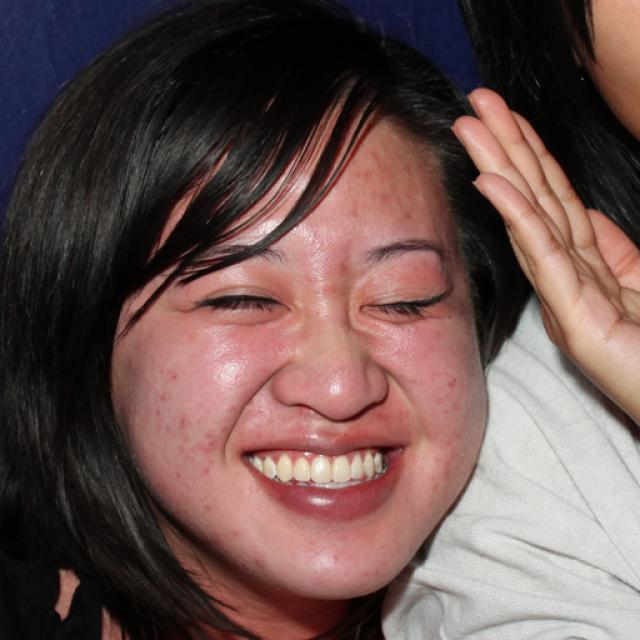Acne: (175, 412, 193, 432), (342, 211, 362, 225), (442, 378, 460, 391)
